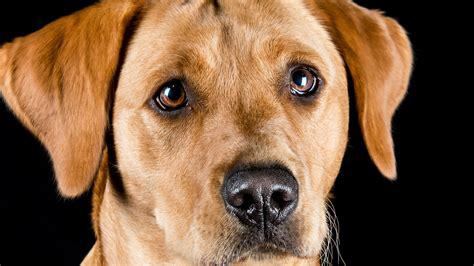dog: (1, 1, 412, 266)
